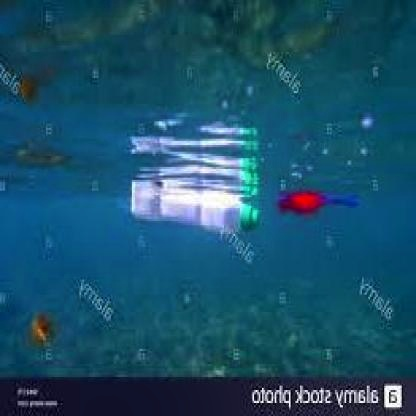pbottle: (116, 165, 262, 245)
